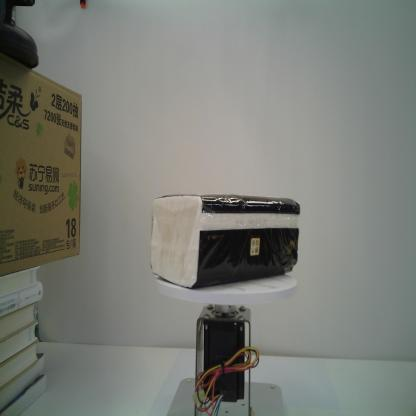Tissue: (148, 192, 302, 288)
